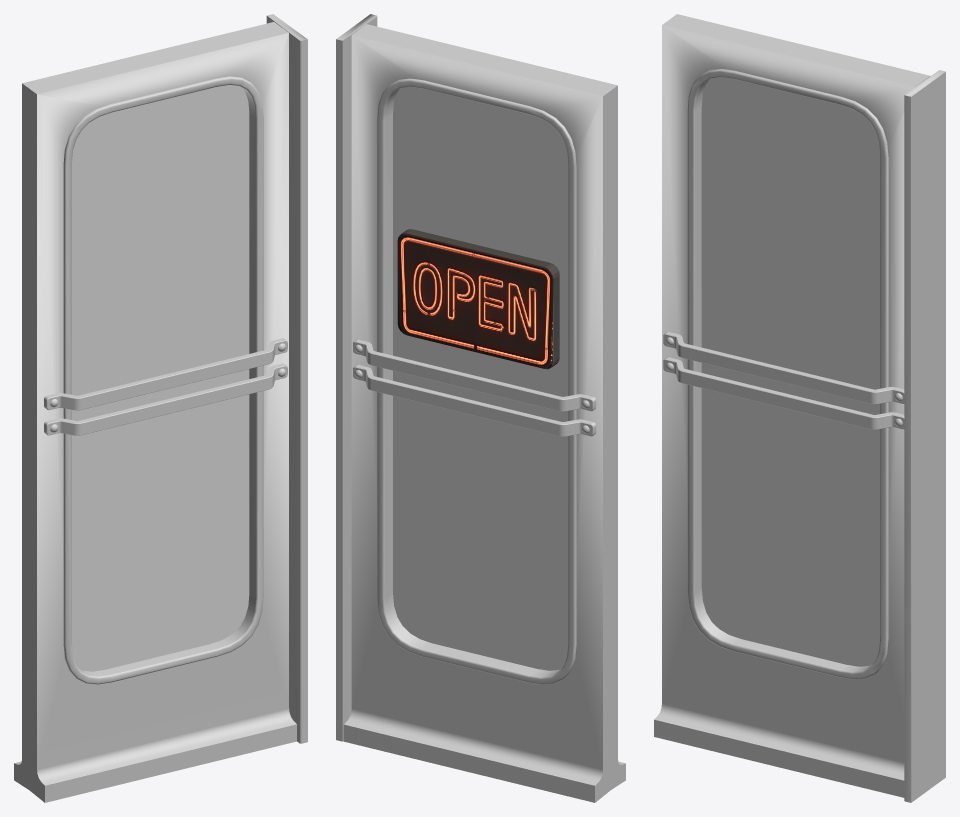
The model's file is SM_Door_Left.fbx.
3 views of the same model, side by side, from view 1: azimuth 30°, elevation 25°; view 2: azimuth 150°, elevation 25°; view 3: azimuth 330°, elevation 25° (orthographic).
Visible parts, largest first — view 1: SM_Update_Door_Left_v001; view 2: SM_Update_Door_Left_v001; view 3: SM_Update_Door_Left_v001.
Part boxes in pixels (<box>): SM_Update_Door_Left_v001: <box>14,14,307,802</box>; SM_Update_Door_Left_v001: <box>336,14,625,802</box>; SM_Update_Door_Left_v001: <box>654,14,945,802</box>.
Bounding box in the file's own units: 0.875 × 2.26 × 0.2309.
3 materials, 1 textured.
